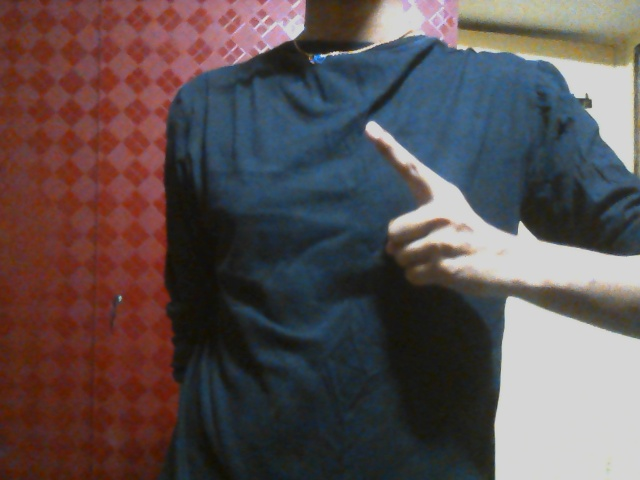I: (361, 117, 505, 313)
